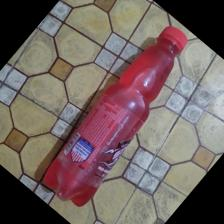Sting: (43, 24, 186, 207)
